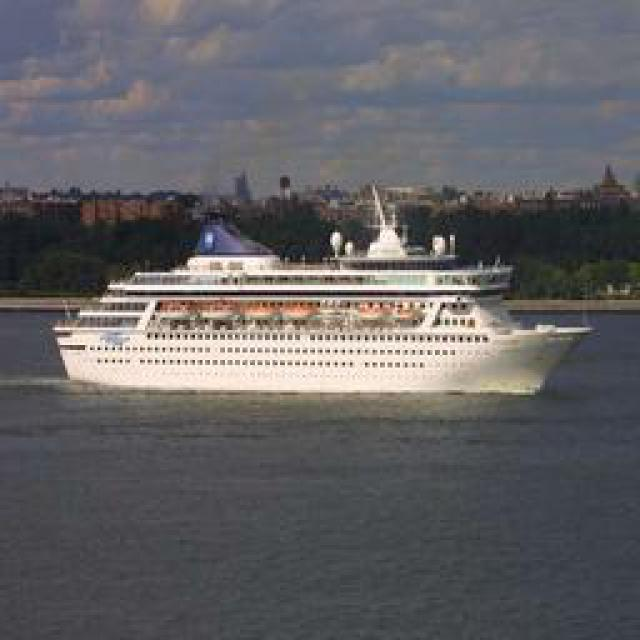Ship: (40, 270, 585, 400)
